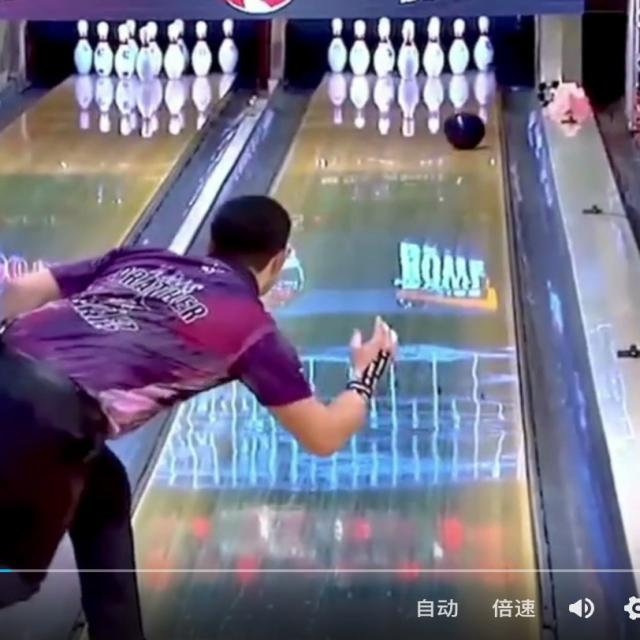alley: (136, 73, 538, 639)
balls: (444, 112, 485, 150)
bottle: (372, 17, 444, 79), (328, 19, 370, 75), (448, 18, 470, 73), (472, 16, 493, 71)
